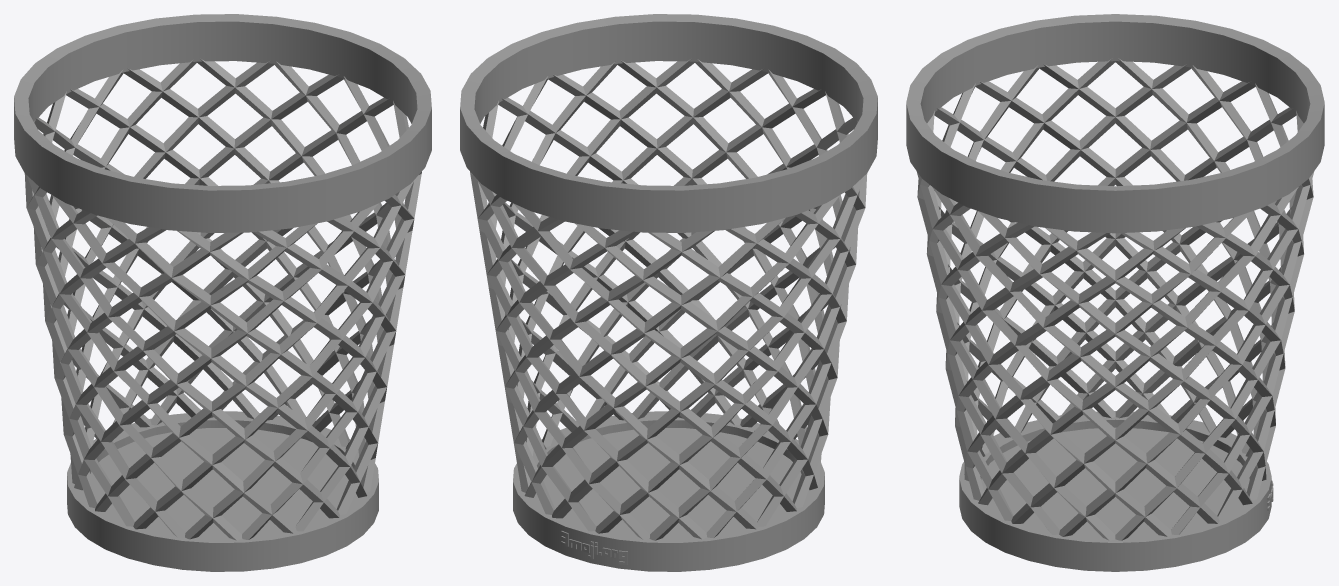
The model's file is wastebasket.glb.
3 views of the same model, side by side, from view 1: azimuth 30°, elevation 25°; view 2: azimuth 150°, elevation 25°; view 3: azimuth 270°, elevation 25° (orthographic).
Parts seen in each view (by area): view 1: Circle.2575; view 2: Circle.2575; view 3: Circle.2575.
Boxes of the visible parts, x1,y1,x2,y2 form: Circle.2575: (14, 14, 431, 571); Circle.2575: (460, 14, 877, 571); Circle.2575: (906, 14, 1324, 571).
Bounding box in the file's own units: 1.79 × 1.9 × 1.79.
1 material, 1 textured.
